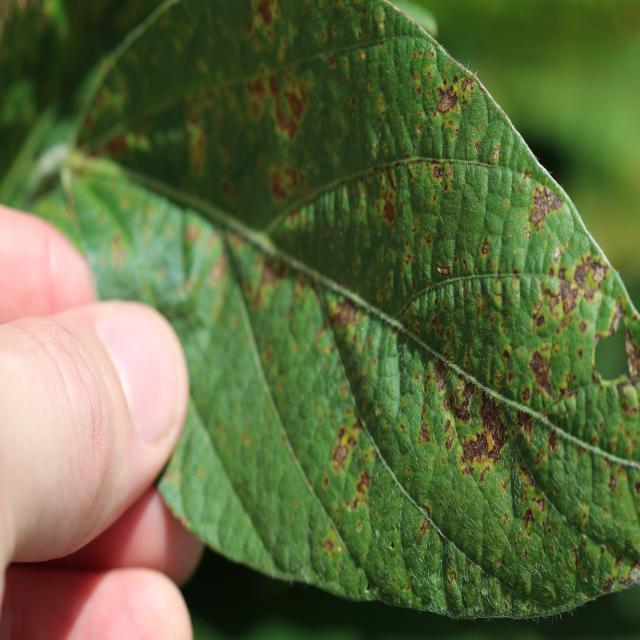Bacterial_Blight: (531, 246, 613, 348), (235, 62, 311, 161), (445, 374, 516, 476), (183, 86, 220, 177), (332, 418, 364, 475), (433, 76, 467, 118), (375, 172, 400, 228), (529, 183, 562, 225), (331, 297, 358, 332), (258, 258, 284, 292), (207, 254, 228, 289), (474, 73, 499, 102), (107, 132, 133, 158), (619, 386, 639, 419), (431, 357, 448, 391), (573, 258, 593, 285), (256, 0, 276, 26), (618, 564, 639, 588), (185, 220, 201, 244), (418, 417, 432, 444), (475, 295, 488, 318), (418, 515, 431, 537), (435, 263, 451, 276), (444, 432, 454, 452), (322, 538, 335, 553), (432, 164, 444, 179), (608, 472, 617, 492), (491, 144, 501, 162), (552, 245, 562, 263), (602, 578, 614, 592), (521, 387, 531, 402), (327, 54, 337, 69), (481, 238, 489, 255), (349, 95, 358, 108), (443, 419, 451, 433), (473, 140, 482, 152)
Soybean: (7, 0, 640, 617)
